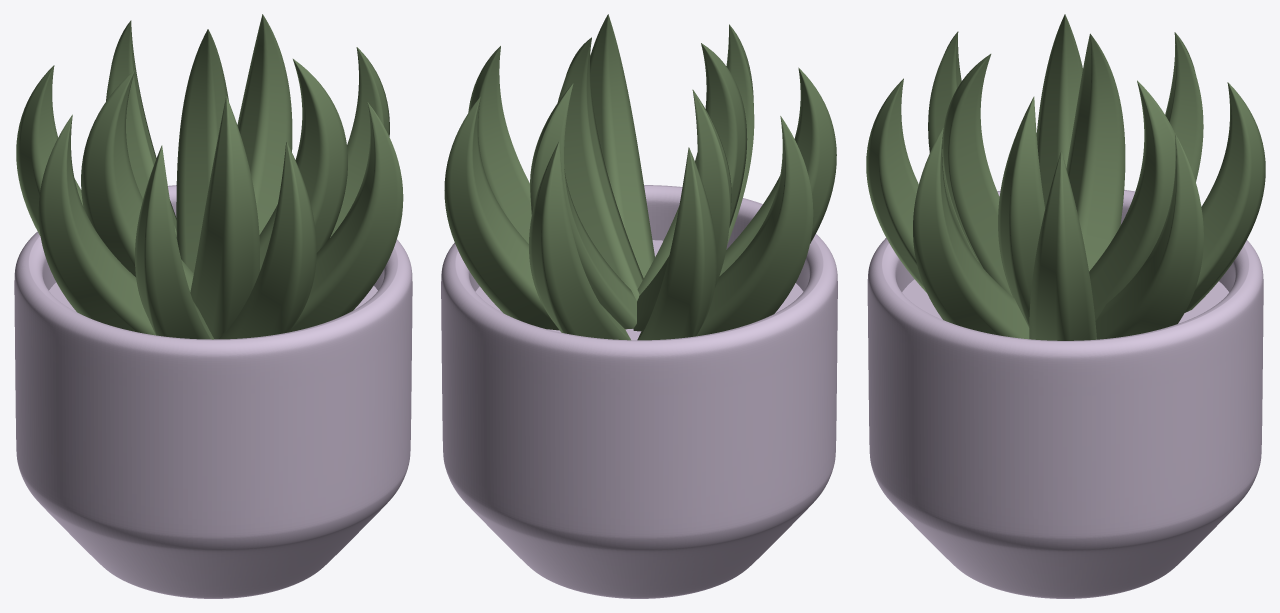
File: planta2.fbx
3 views of the same model, side by side, from view 1: azimuth 30°, elevation 25°; view 2: azimuth 150°, elevation 25°; view 3: azimuth 270°, elevation 25° (orthographic).
Visible parts, largest first — view 1: maceta.001, planta 1; view 2: maceta.001, planta 1; view 3: maceta.001, planta 1.
Part boxes in pixels (box(x1,y1,x2,y2)): maceta.001: box(14, 185, 412, 598); planta 1: box(16, 14, 403, 339); maceta.001: box(441, 185, 837, 598); planta 1: box(444, 14, 836, 340); maceta.001: box(867, 190, 1263, 598); planta 1: box(866, 14, 1265, 340).
Size of the model in its own units: 75.37 by 102 by 75.62.
